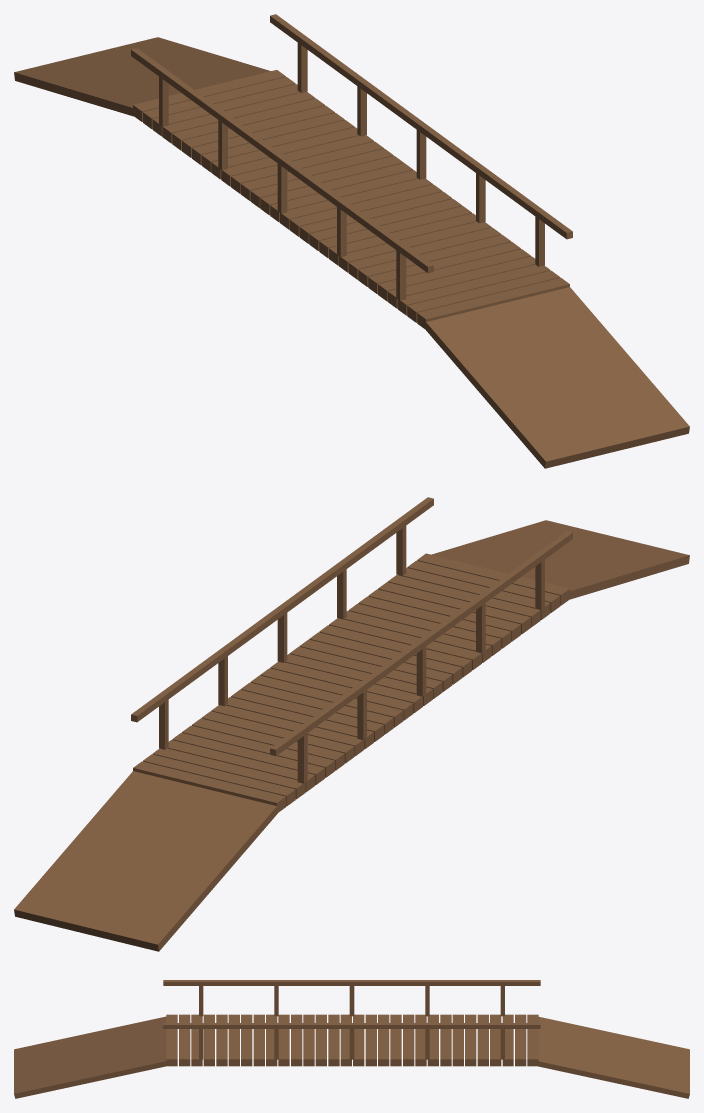
Rendered from bridge.glb.
3 renders of one model, top to bottom at view 1: azimuth 30°, elevation 25°; view 2: azimuth 150°, elevation 25°; view 3: azimuth 270°, elevation 25°, orthographic. The views are drawn at different scales.
Visible parts, largest first — view 1: Мост с пандусами; view 2: Мост с пандусами; view 3: Мост с пандусами.
Part boxes in pixels (<box>): Мост с пандусами: <box>14,14,689,468</box>; Мост с пандусами: <box>14,497,689,951</box>; Мост с пандусами: <box>14,980,689,1098</box>.
Bounding box in the file's own units: 2.82 × 2.17 × 17.92.
